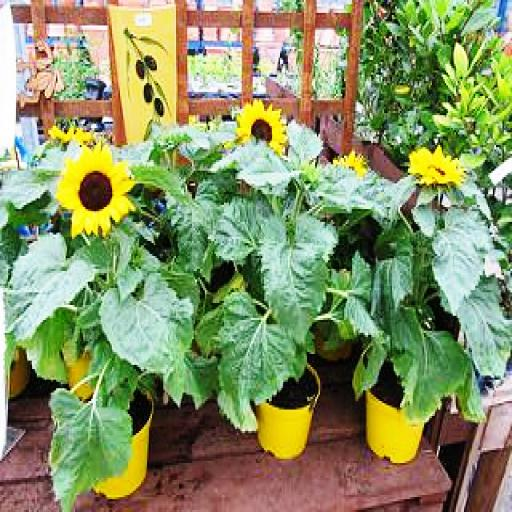sunflower: (56, 145, 133, 235), (237, 102, 286, 156), (408, 143, 462, 186), (334, 145, 365, 179)
